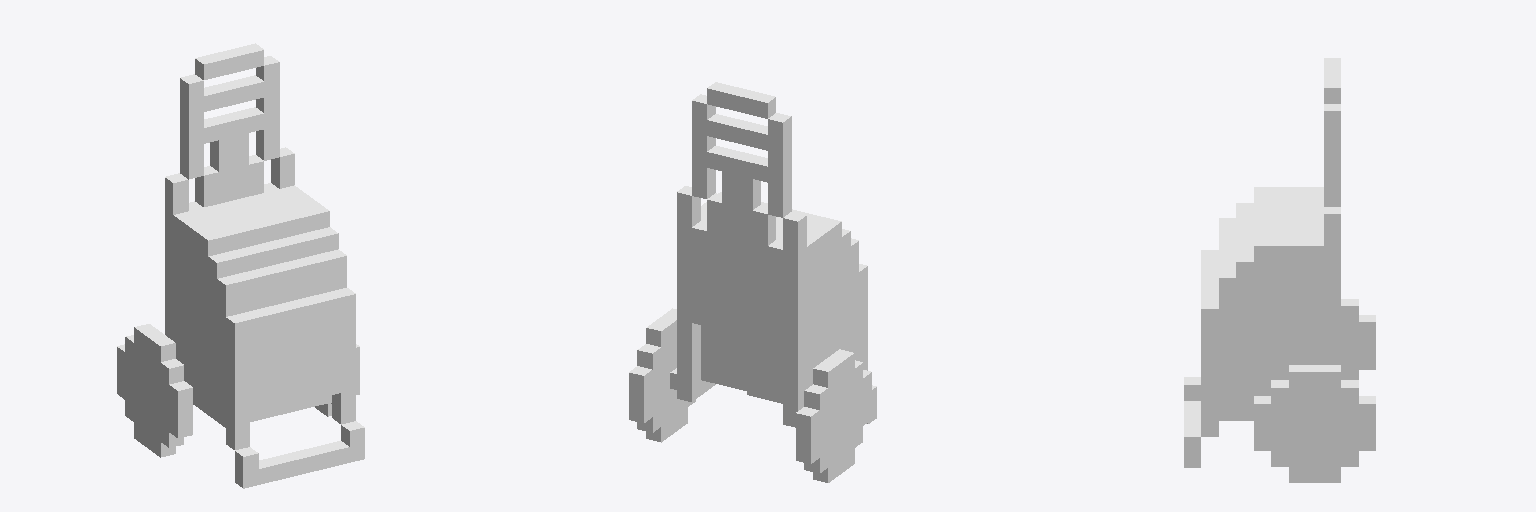
Rendered from Carro.obj.
3 views of the same model, side by side, from view 1: azimuth 30°, elevation 25°; view 2: azimuth 150°, elevation 25°; view 3: azimuth 270°, elevation 25° (orthographic).
Visible parts, largest first — view 1: object 1; view 2: object 1; view 3: object 1.
Boxes of the visible parts, x1=… form: object 1: x1=117, y1=43, x2=364, y2=488; object 1: x1=629, y1=82, x2=876, y2=482; object 1: x1=1184, y1=58, x2=1375, y2=482.
Bounding box in the file's own units: 1.2 × 2.3 × 1.1.